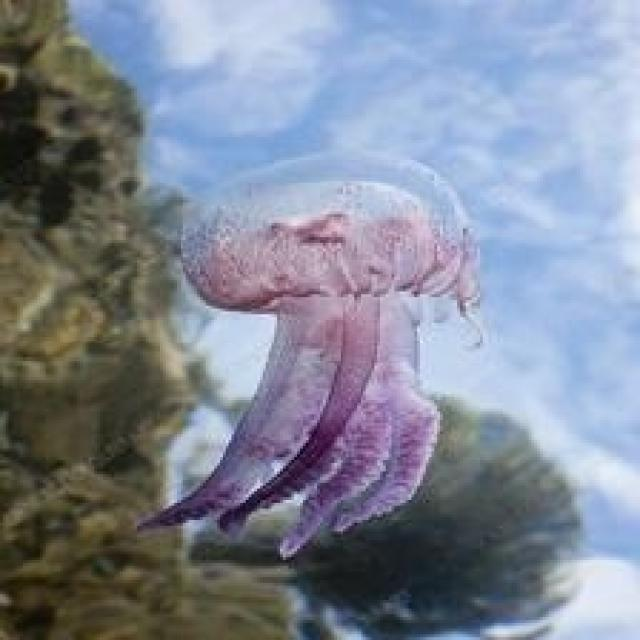Moon-jellyfish: (131, 146, 486, 560)
